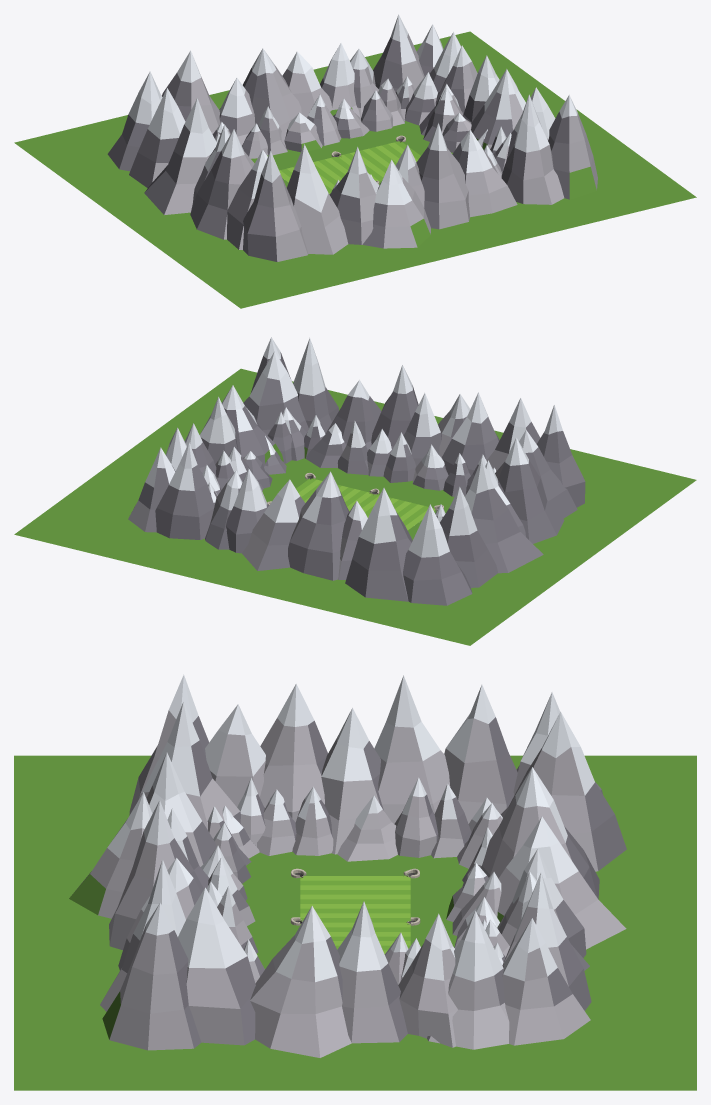
The model's file is Map_Static.fbx.
3 views of the same model, one above another, from view 1: azimuth 30°, elevation 25°; view 2: azimuth 150°, elevation 25°; view 3: azimuth 270°, elevation 25° (orthographic). The views are drawn at different scales.
Parts seen in each view (by area): view 1: Mountains, Ground_Far, Field, Ground_Outside; view 2: Mountains, Ground_Far, Ground_Outside, Field; view 3: Mountains, Ground_Far, Ground_Outside, Field.
Part boxes in pixels (<box>): Mountains: <box>107,14,597,261</box>; Ground_Far: <box>14,31,696,308</box>; Field: <box>279,141,420,193</box>; Ground_Outside: <box>254,124,429,194</box>; Mountains: <box>128,337,585,605</box>; Ground_Far: <box>14,368,696,645</box>; Ground_Outside: <box>262,461,453,540</box>; Field: <box>296,478,435,530</box>; Mountains: <box>69,674,626,1057</box>; Ground_Far: <box>14,755,696,1090</box>; Ground_Outside: <box>256,857,454,968</box>; Field: <box>300,876,410,954</box>.
Bounding box in the file's own units: 720 × 160 × 620.
